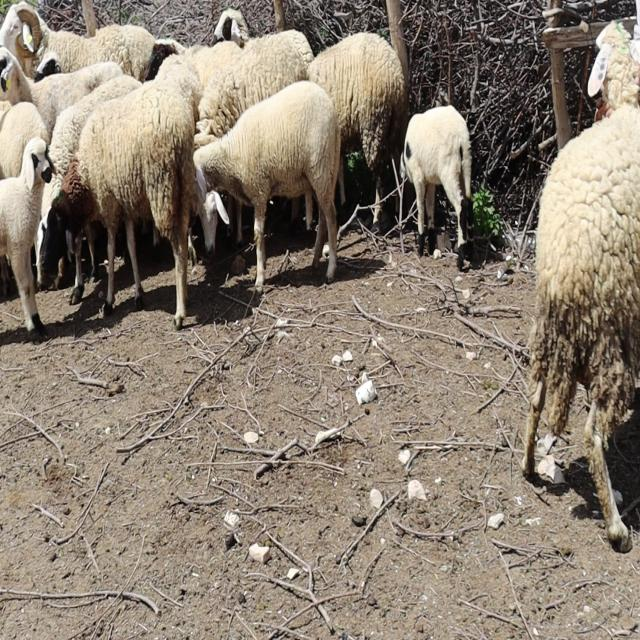Score_3: (521, 22, 640, 552)
